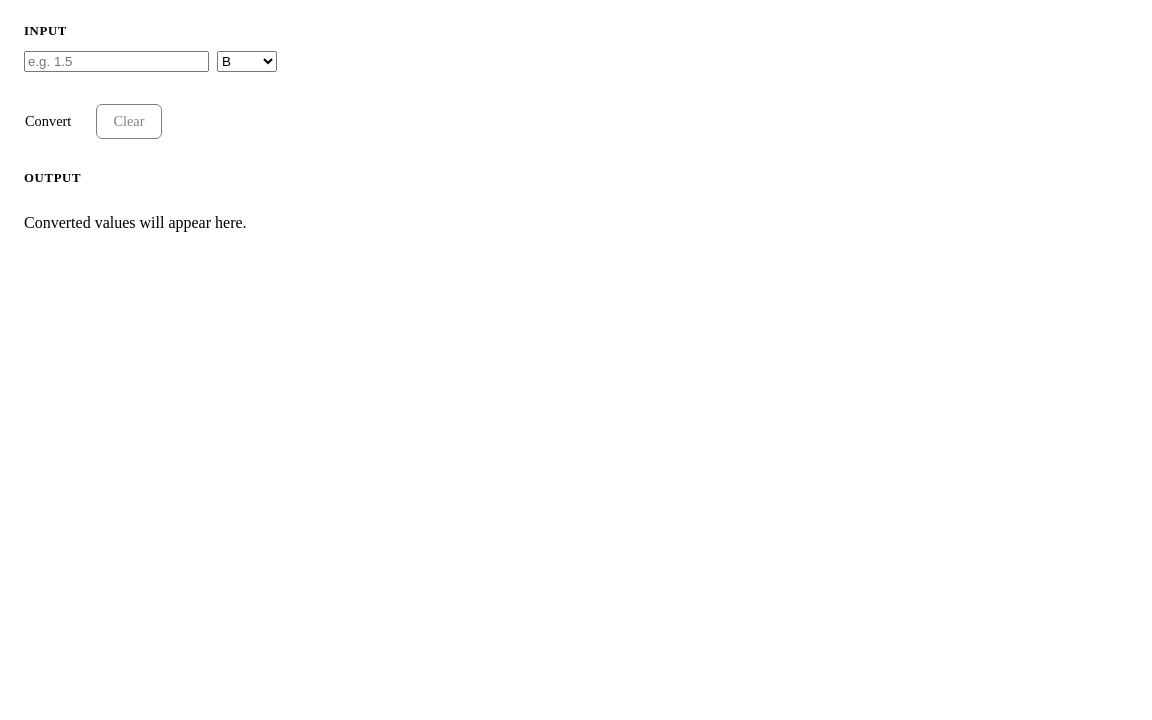
Test: ByteSizeConverterTool › clears input and output
Type "1024" into the field named "Byte value".
click(116, 62); type("1024")  # box [24,51,209,72]
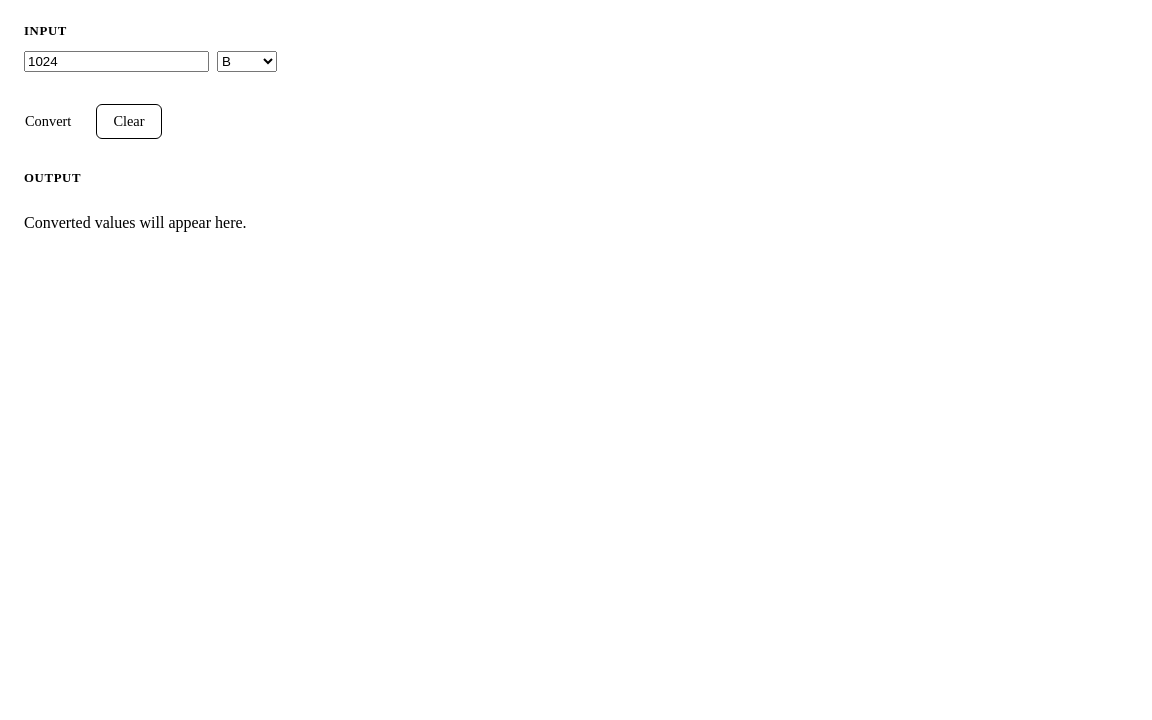
Click the button "Convert".
click(48, 122)  # box [8,104,88,139]
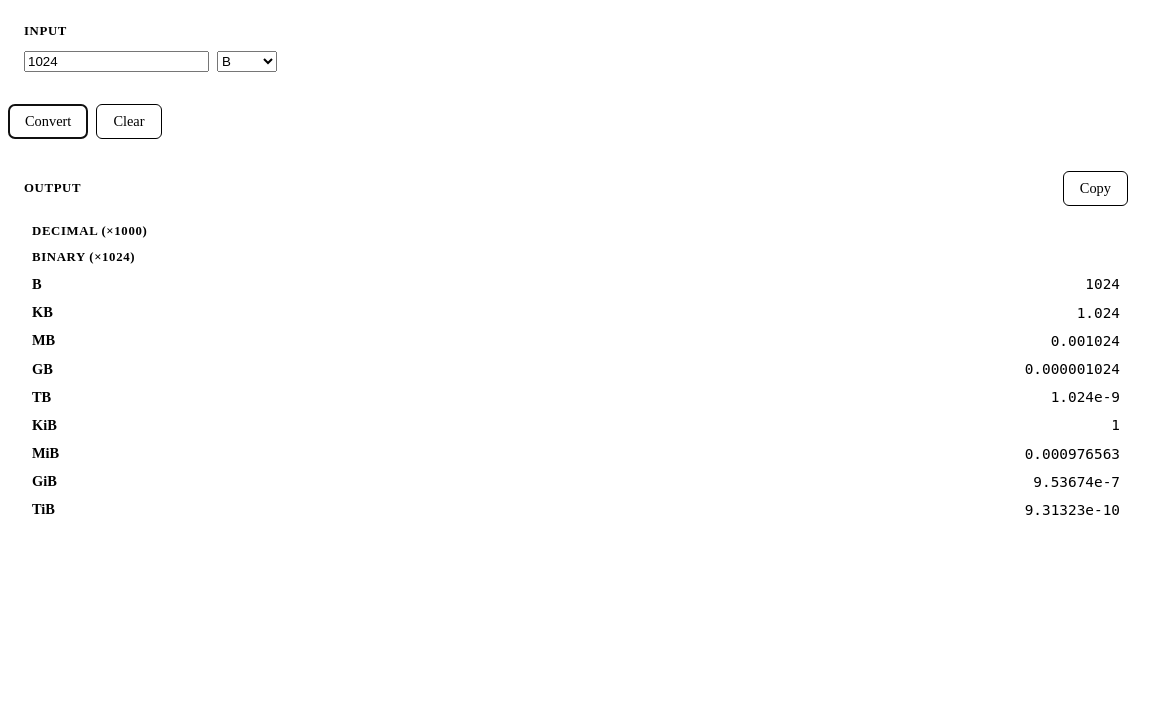
expect the table with test id "byte-conversion-table" is shown: met, box [24,218,1128,524]
Click the button "Clear".
click(129, 122)  # box [96,104,162,139]
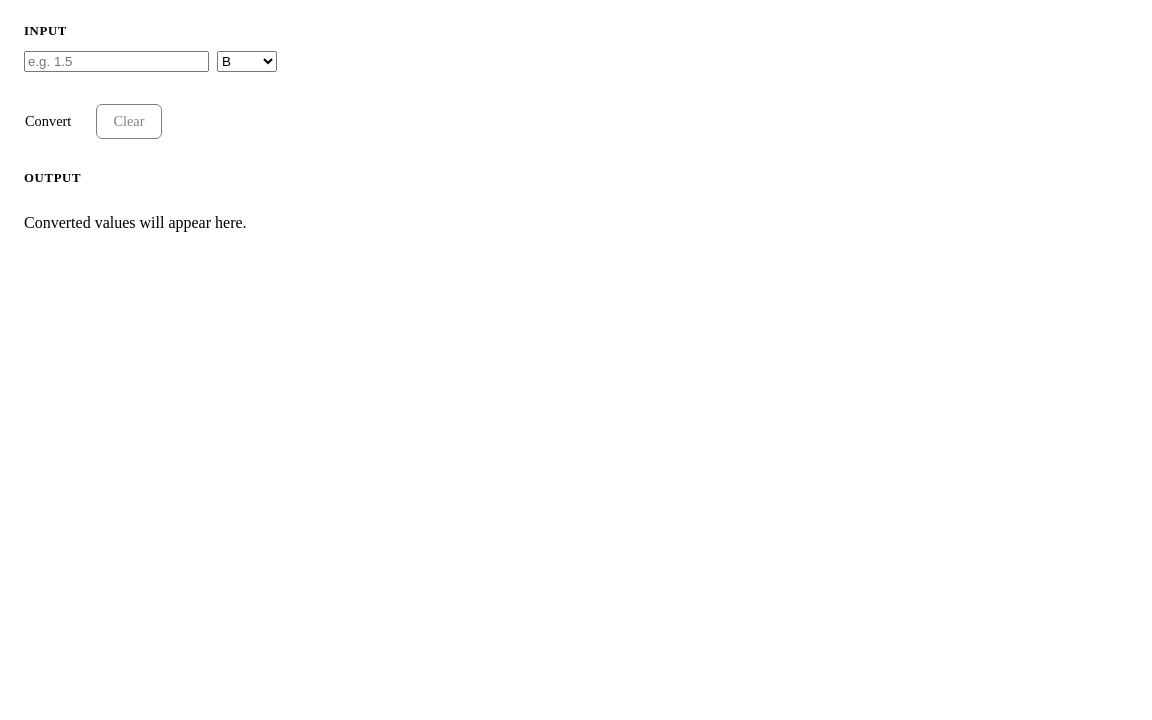
expect the field named "Byte value" is empty: met, box [24,51,209,72]
expect the table with test id "byte-conversion-table" is gone: met
